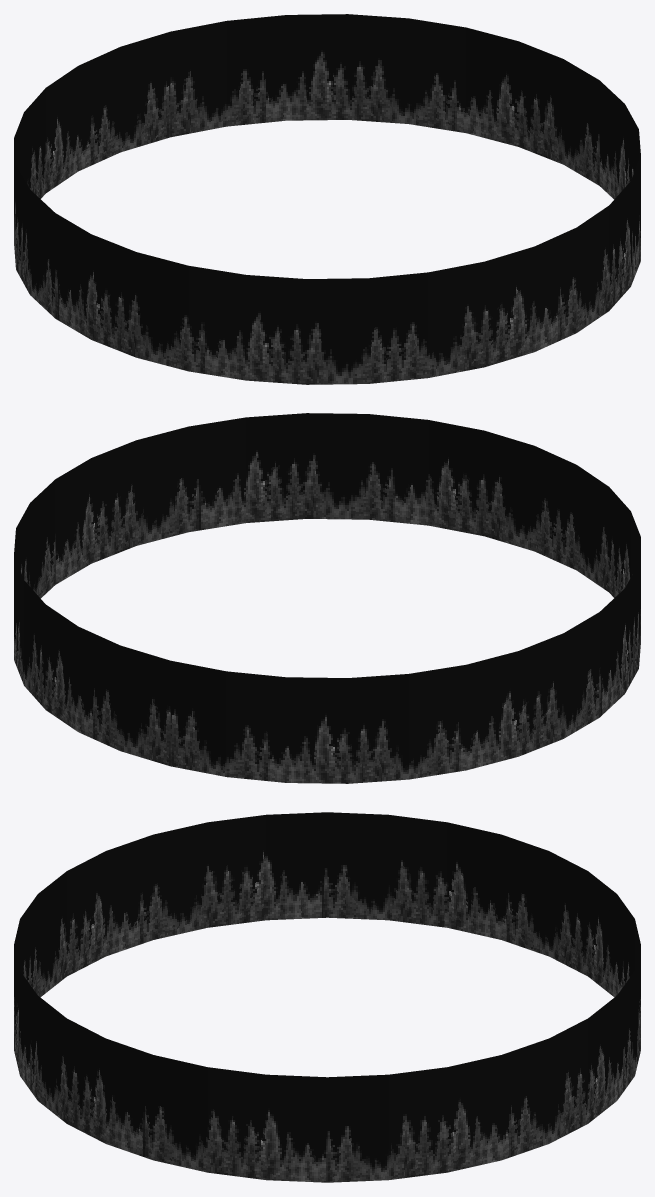
Rendered from forst.glb.
The picture shows the model from 3 angles, top to bottom: view 1: azimuth 30°, elevation 25°; view 2: azimuth 150°, elevation 25°; view 3: azimuth 270°, elevation 25°; orthographic projection.
Parts seen in each view (by area): view 1: Cylinder; view 2: Cylinder; view 3: Cylinder.
Part boxes in pixels (x1=…): Cylinder: x1=14, y1=14, x2=640, y2=384; Cylinder: x1=14, y1=413, x2=640, y2=783; Cylinder: x1=14, y1=812, x2=640, y2=1182.
Size of the model in its own units: 2 by 0.3714 by 2.
Materials: 1 (1 with a texture image).
